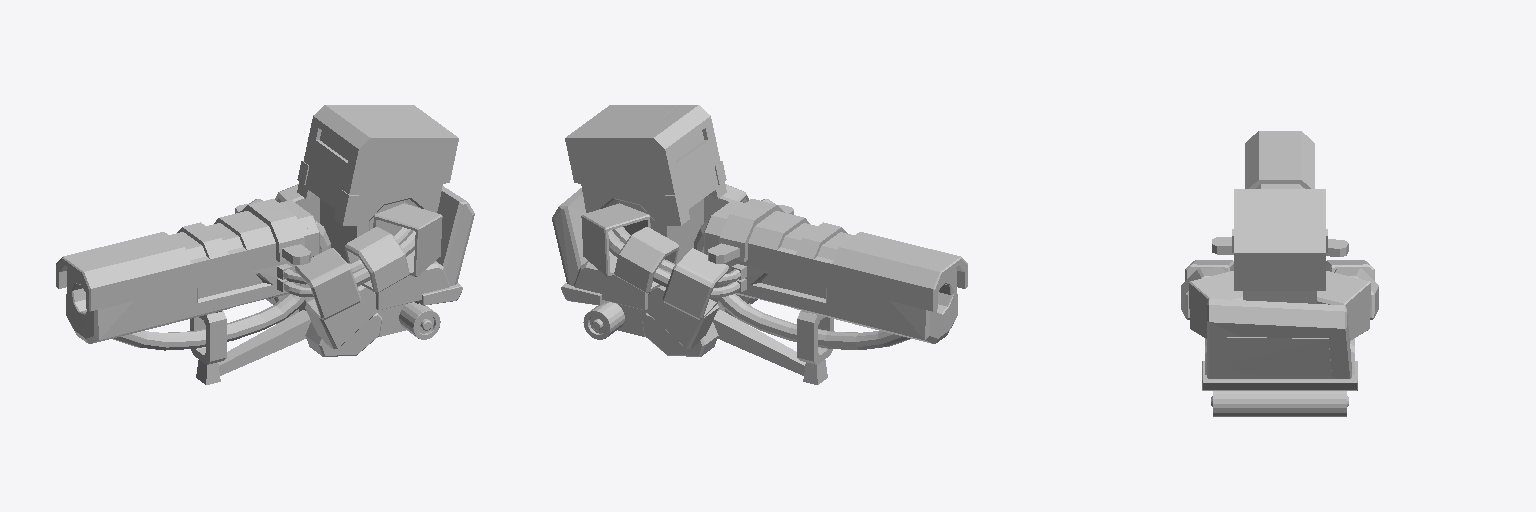
File: flak_seat.obj
The picture shows the model from 3 angles: view 1: azimuth 30°, elevation 25°; view 2: azimuth 150°, elevation 25°; view 3: azimuth 270°, elevation 25°; orthographic projection.
Visible parts, largest first — view 1: FlakCannon_TiltingSeat_LOD0.001; view 2: FlakCannon_TiltingSeat_LOD0.001; view 3: FlakCannon_TiltingSeat_LOD0.001.
Part boxes in pixels (bbox=[...]): FlakCannon_TiltingSeat_LOD0.001: bbox=[56, 105, 474, 384]; FlakCannon_TiltingSeat_LOD0.001: bbox=[552, 105, 967, 384]; FlakCannon_TiltingSeat_LOD0.001: bbox=[1181, 131, 1378, 416].
Bounding box in the file's own units: 13.19 × 7.7 × 6.17.